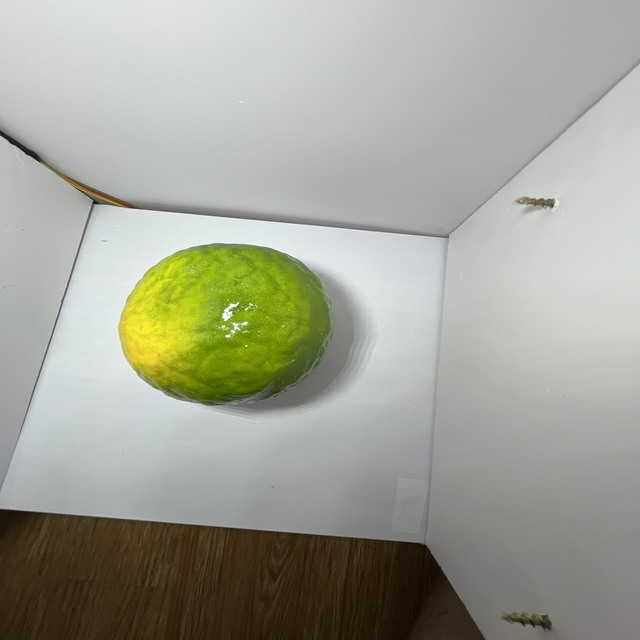Cam xanh: (115, 237, 336, 414)
